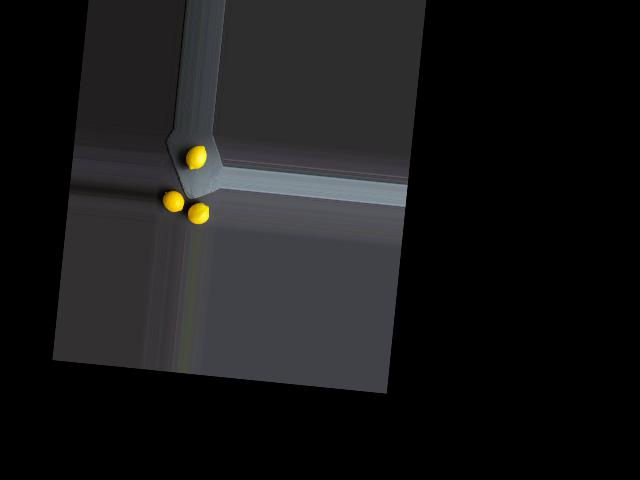lemon: (185, 199, 211, 226)
